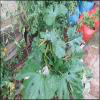Squash Powdery mildew leaf: (20, 60, 59, 97), (27, 36, 46, 62), (53, 38, 67, 60), (39, 28, 56, 44), (71, 32, 84, 45), (66, 24, 76, 40)
